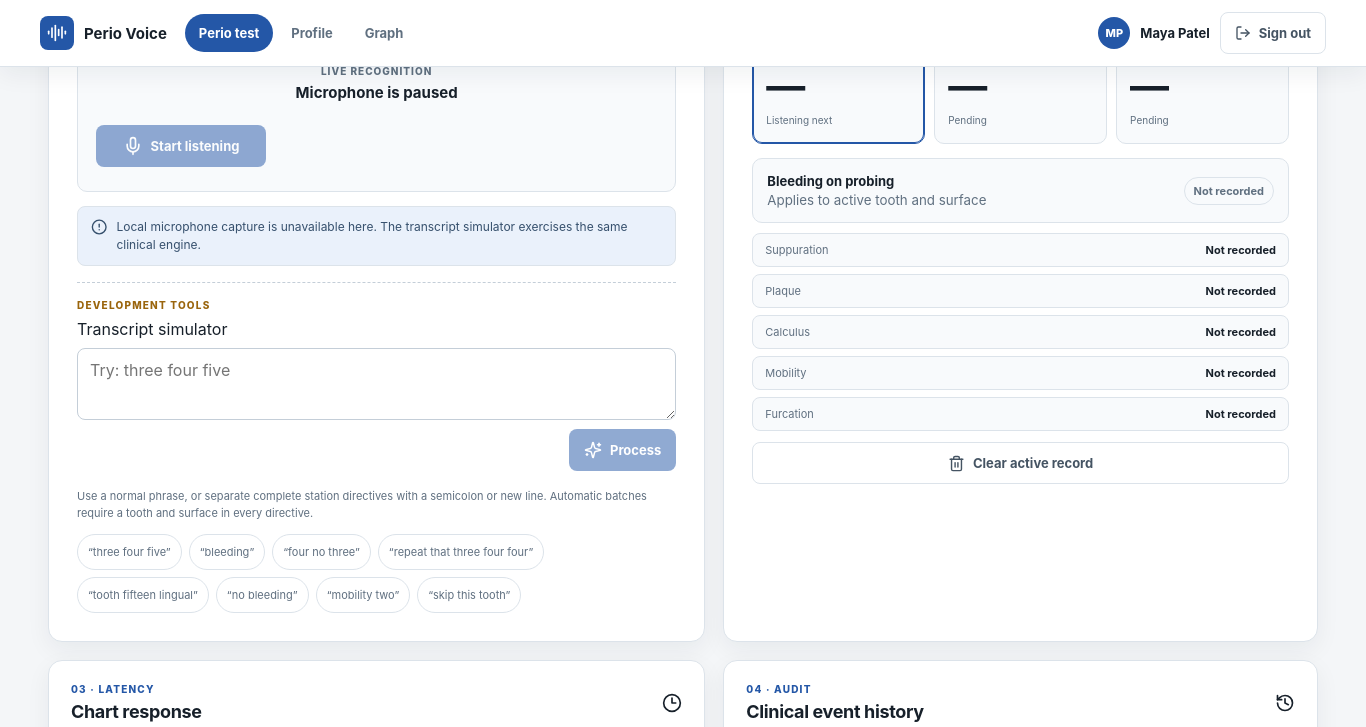
Test: full-mouth workflow controls › enables undo only once there is something to reverse
(page scrolled)
Type "three four five" into the text box labelled "Transcript simulator".
click(377, 384); type("three four five")  # box [77,348,676,420]
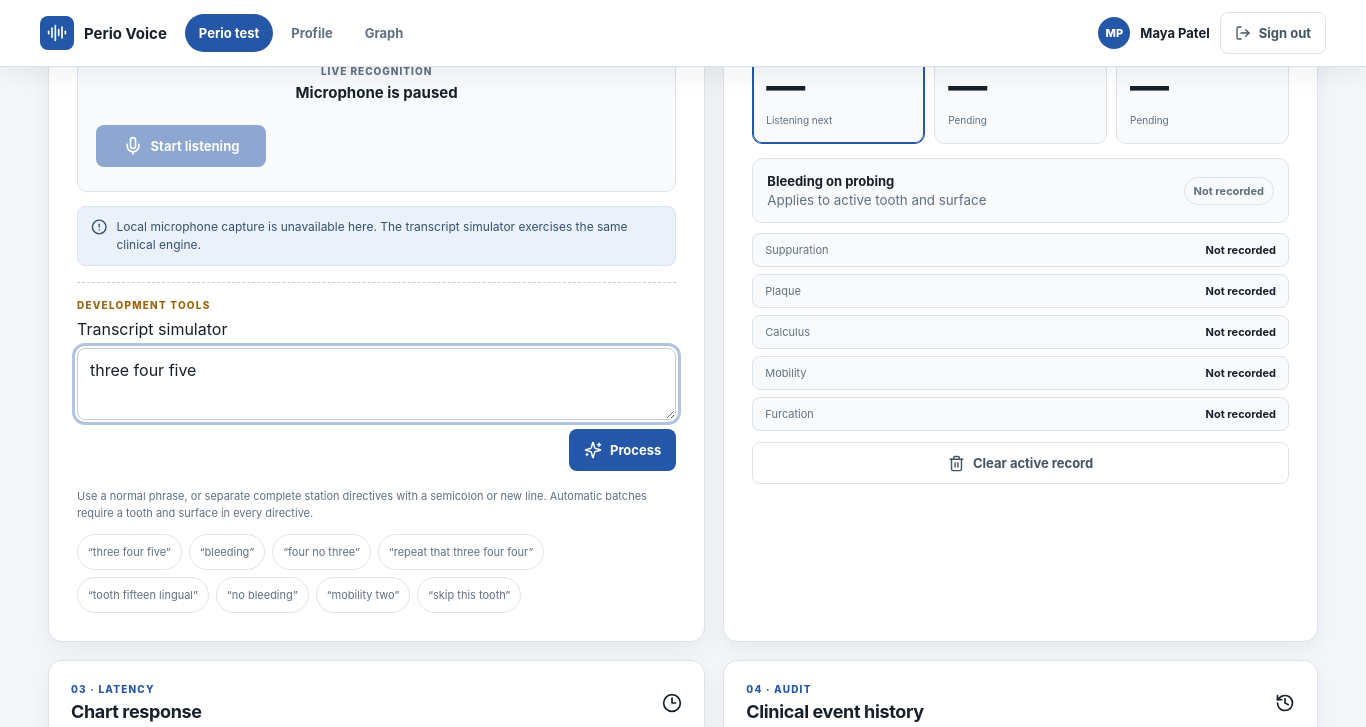
Click the button "Process".
click(623, 450)  # box [569,430,676,472]
(page scrolled)
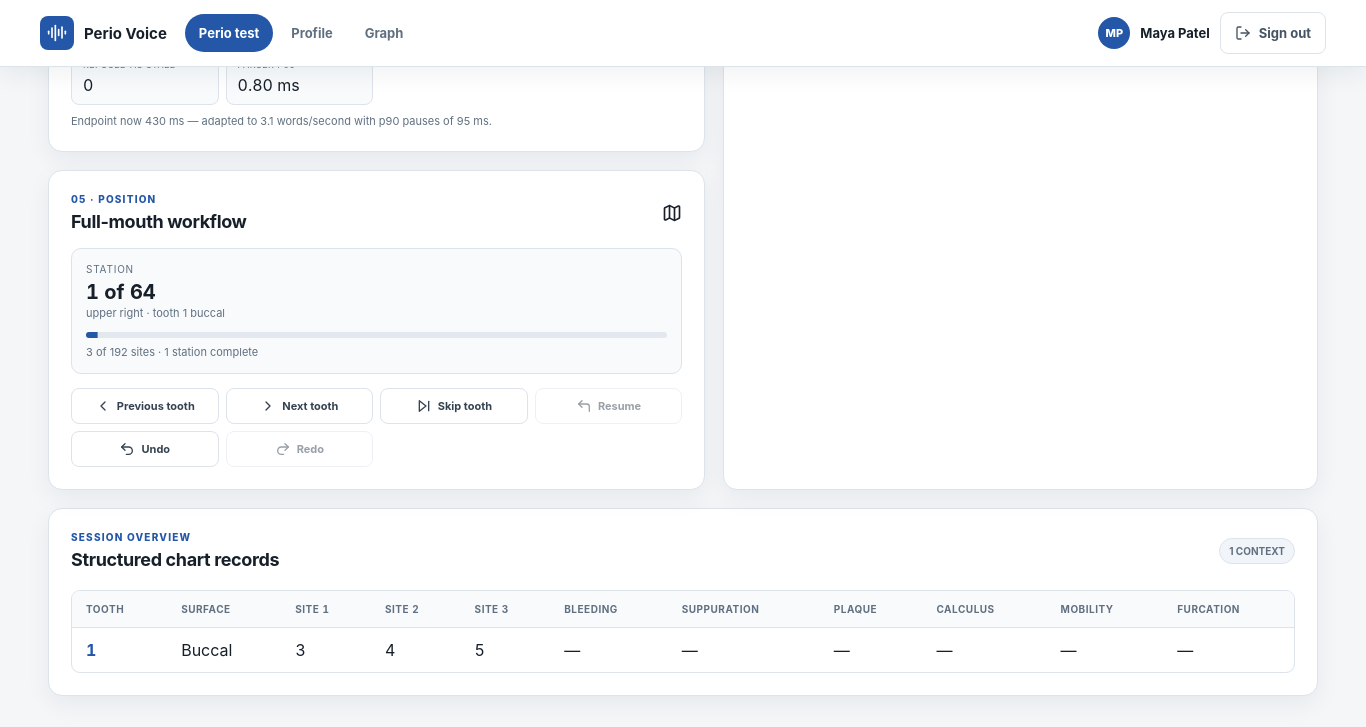
Result: the button "Undo" is enabled
Click the button "Undo".
click(145, 450)  # box [71,432,219,468]
(page scrolled)
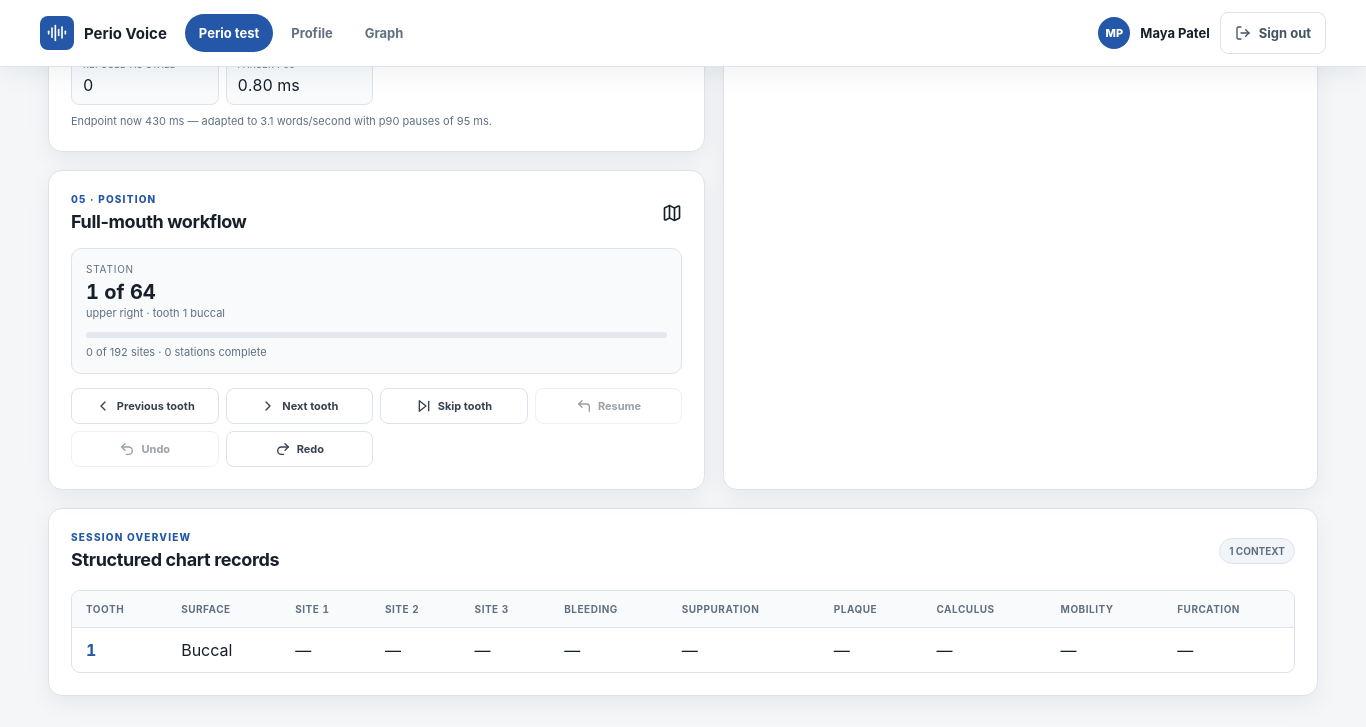
Result: the button "Redo" is enabled
Click the button "Redo".
click(299, 450)  # box [226,432,373,468]
(page scrolled)
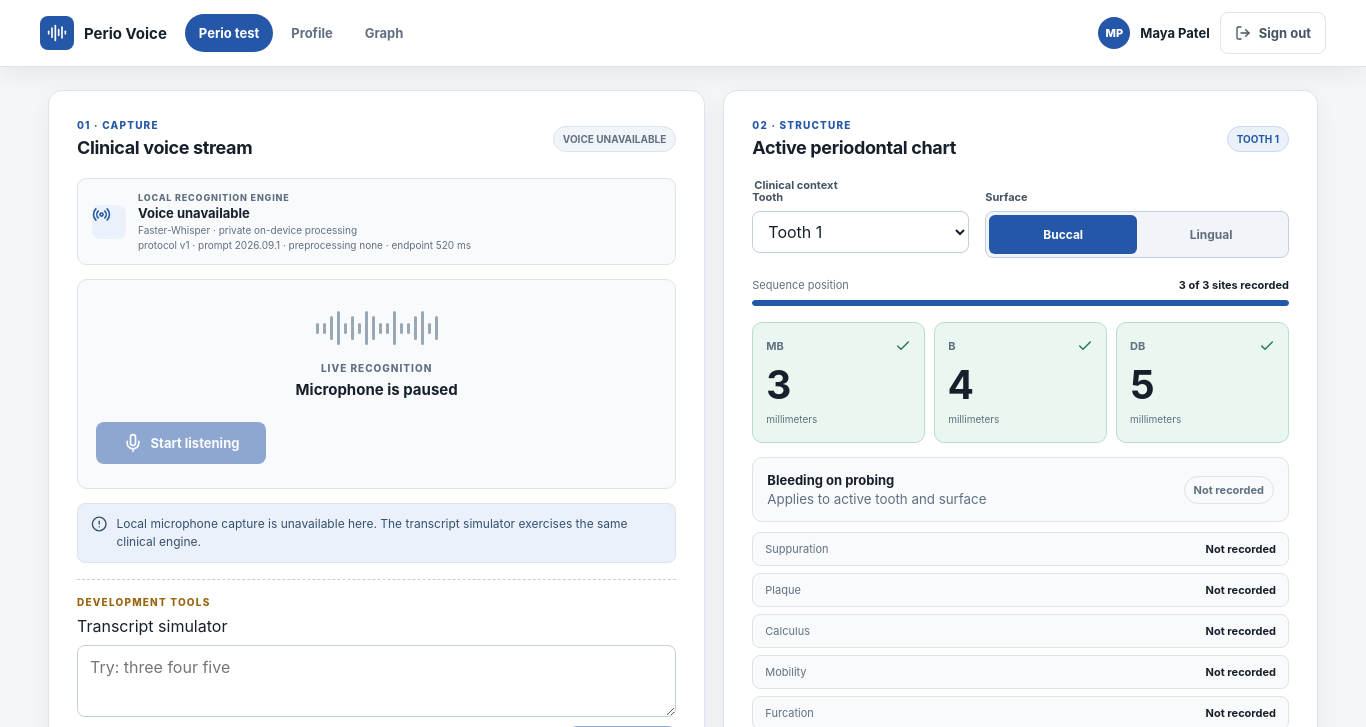
Result: the text named "MB probing depth 3" is shown at [766,362,792,408]
